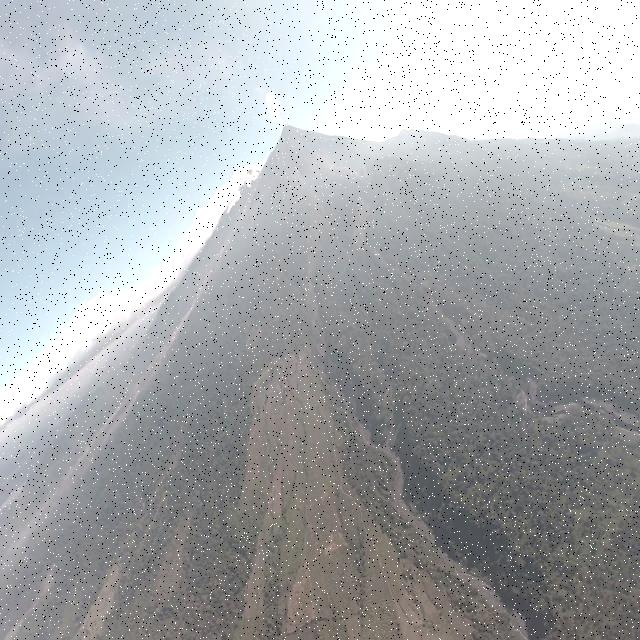Plume: (266, 91, 281, 125)
Summit: (276, 120, 298, 144)
